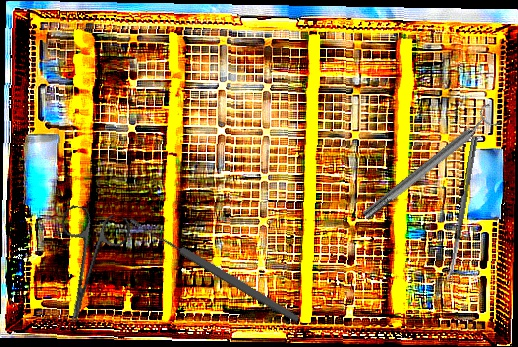Fixation Ring: (356, 102, 504, 226)
Iris Scissors: (38, 203, 133, 330)
Surgical Spoon: (127, 214, 302, 325), (445, 136, 478, 285)
